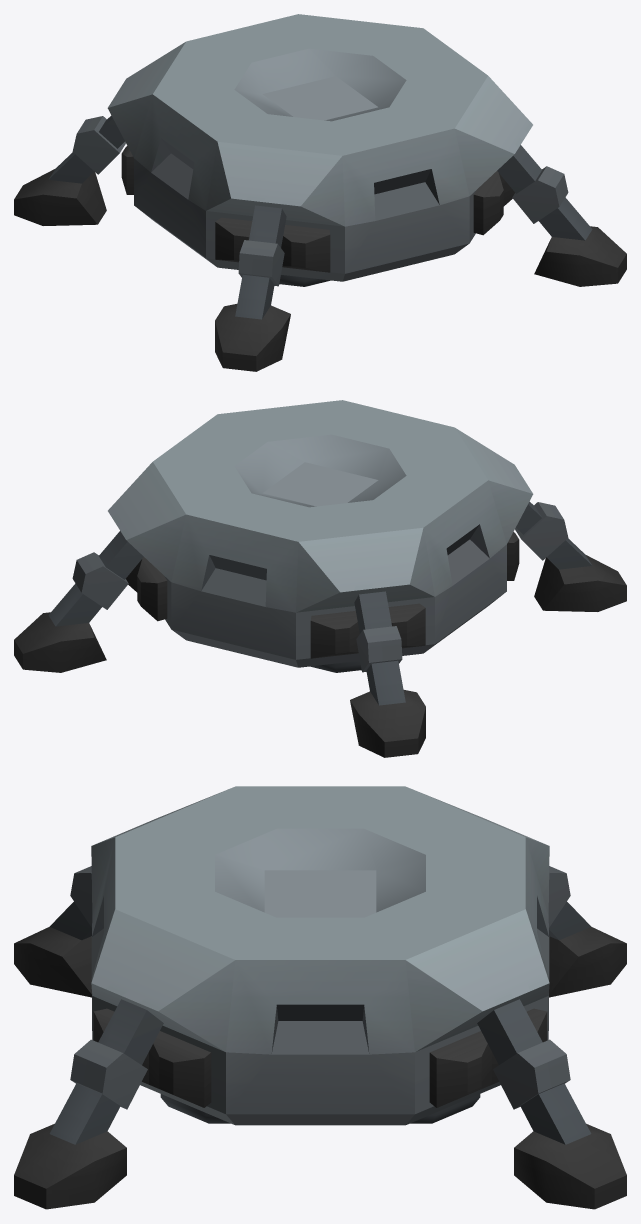
The model's file is kaykit-space-base-bits-lander-base.glb.
3 views of the same model, one above another, from view 1: azimuth 30°, elevation 25°; view 2: azimuth 150°, elevation 25°; view 3: azimuth 270°, elevation 25° (orthographic). The views are drawn at different scales.
Parts seen in each view (by area): view 1: lander_base; view 2: lander_base; view 3: lander_base.
Part boxes in pixels (bbox=[...]): lander_base: bbox=[14, 14, 626, 371]; lander_base: bbox=[14, 400, 626, 757]; lander_base: bbox=[14, 786, 626, 1209].
Size of the model in its own units: 1.34 by 0.4999 by 1.34.
1 material, 1 textured.
